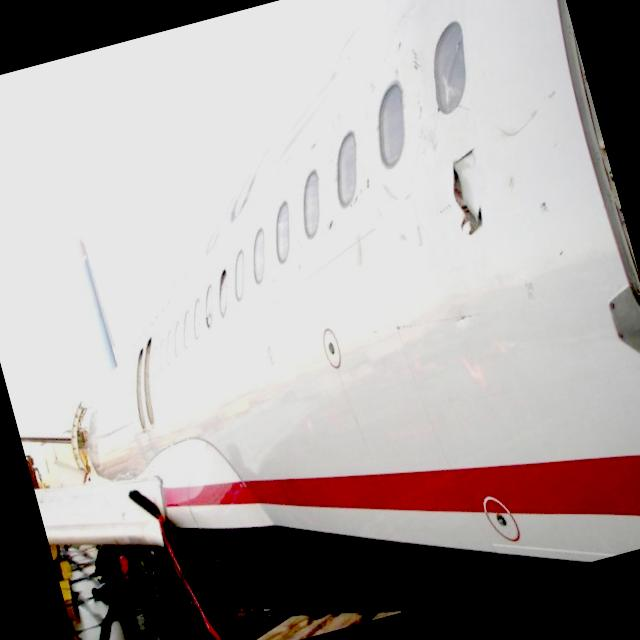crack: (433, 143, 502, 240)
